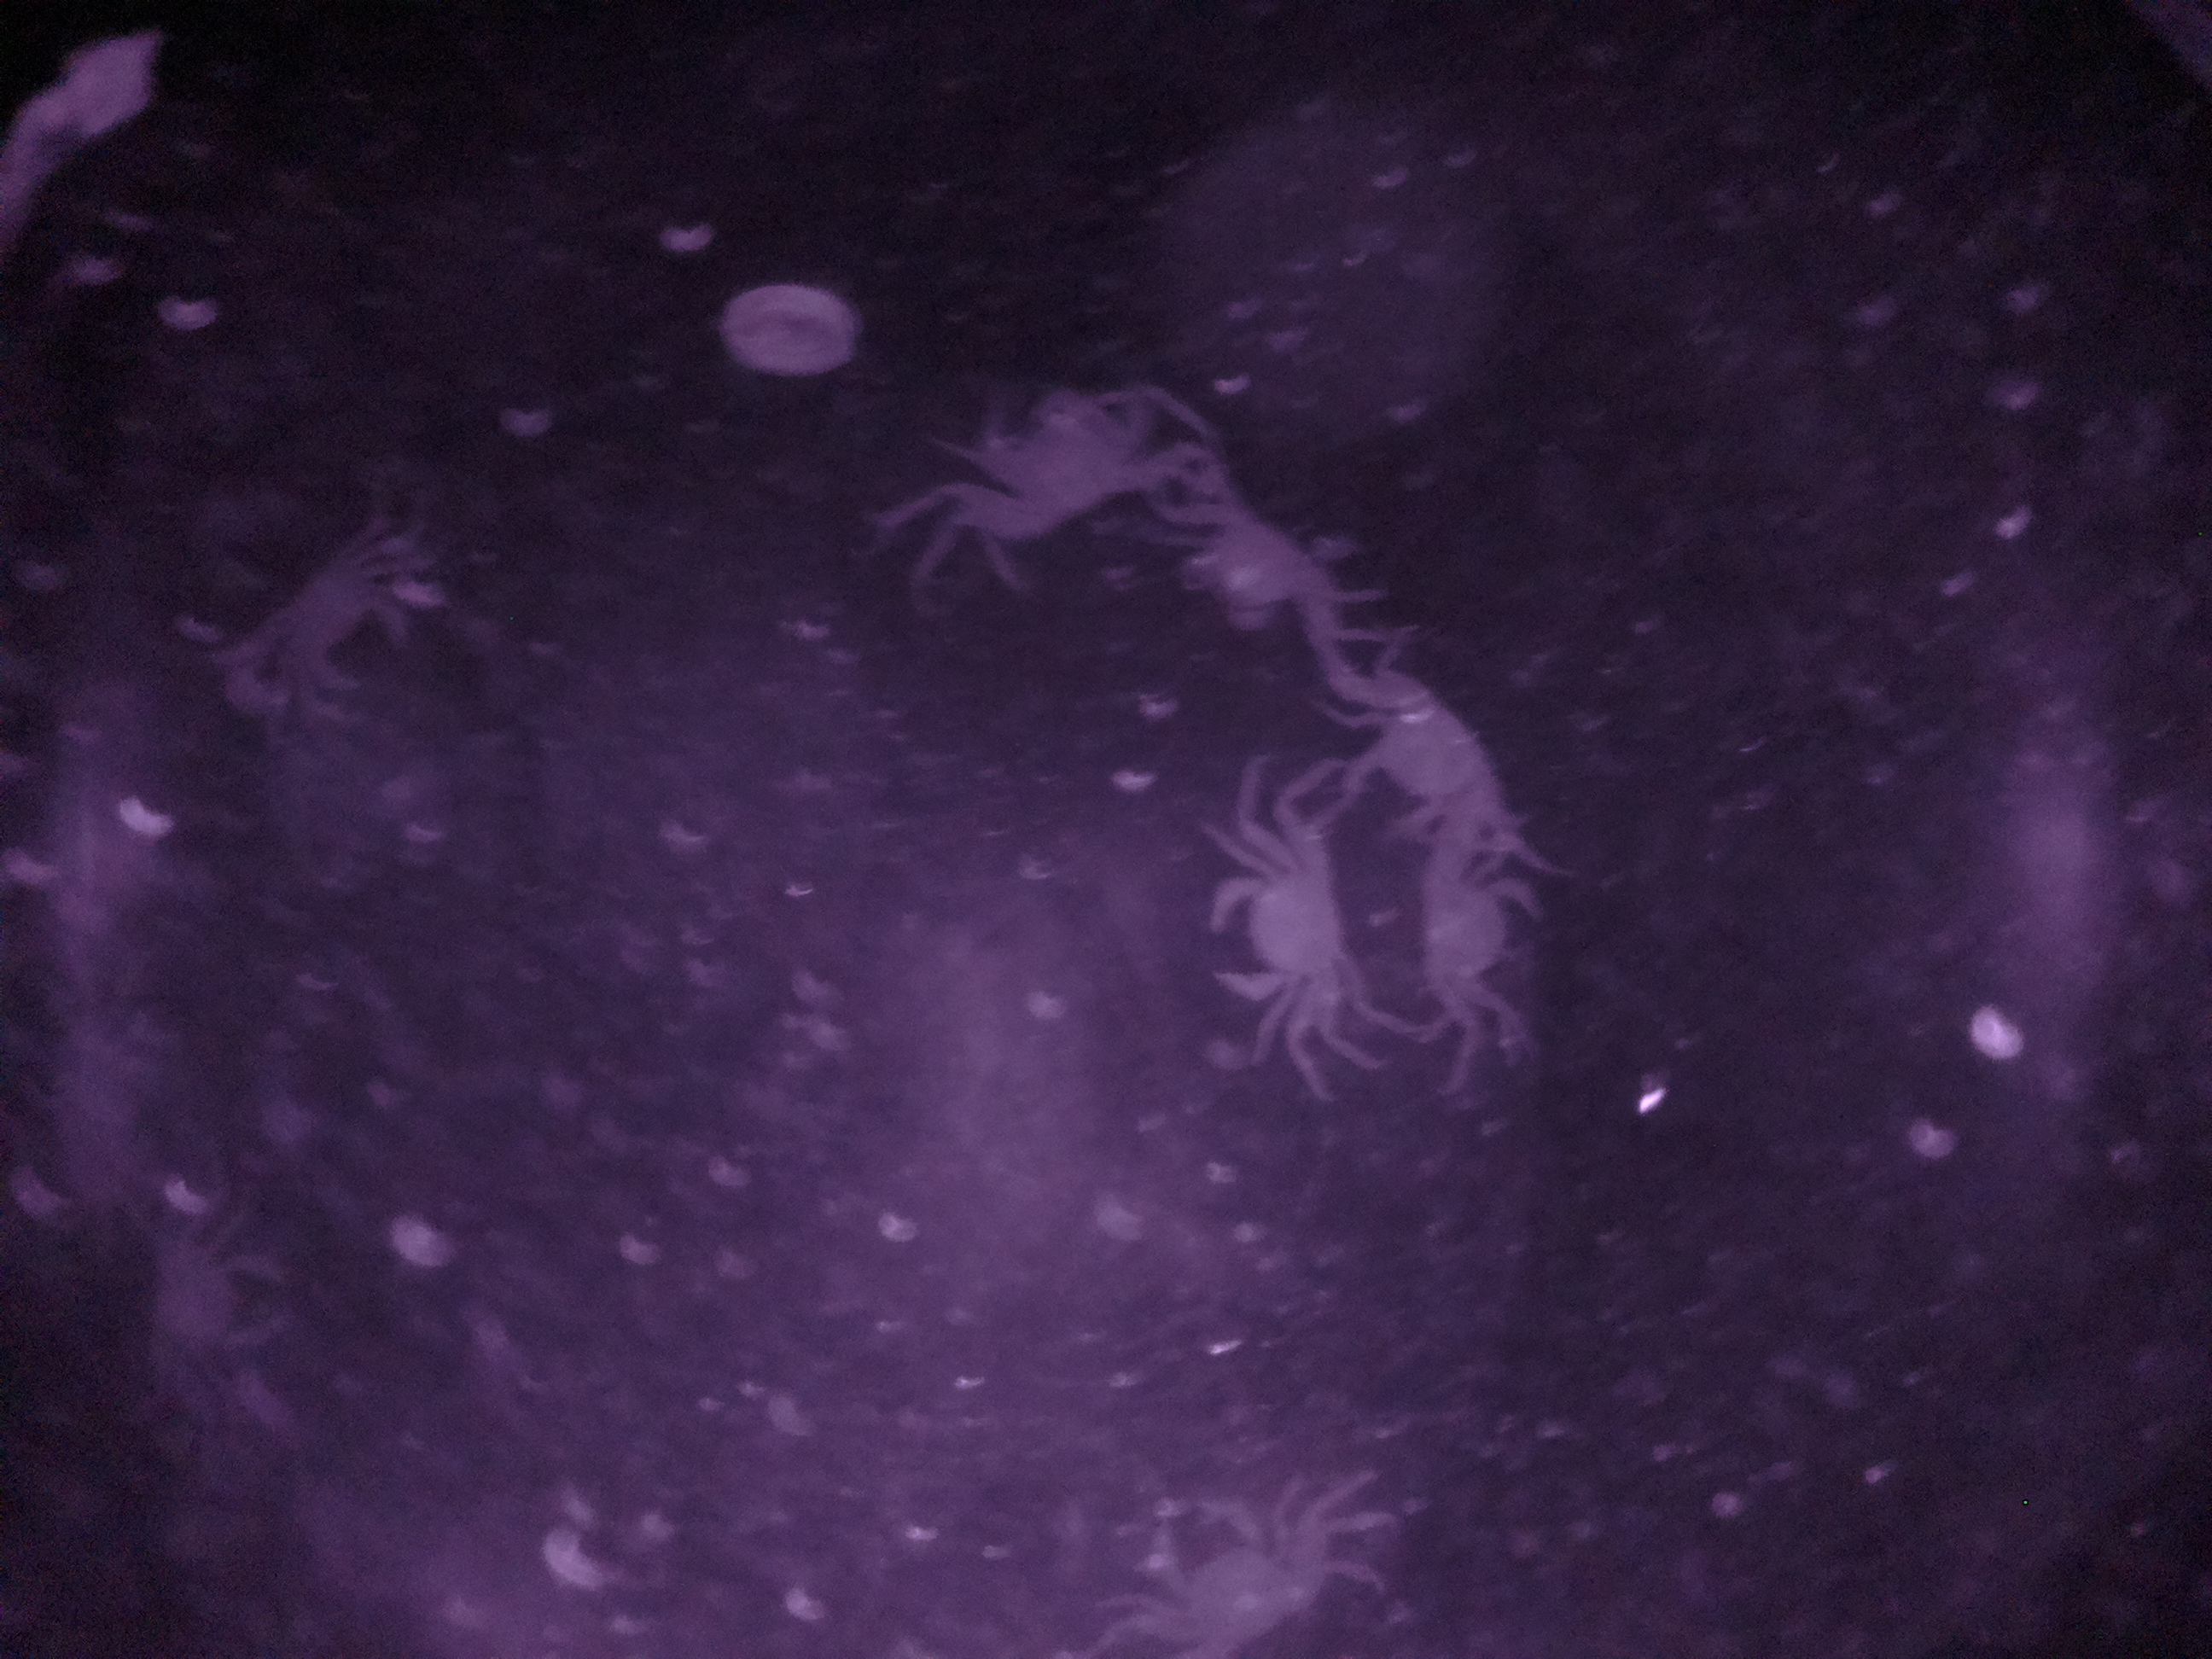Crab: (1177, 819, 1369, 1044)
